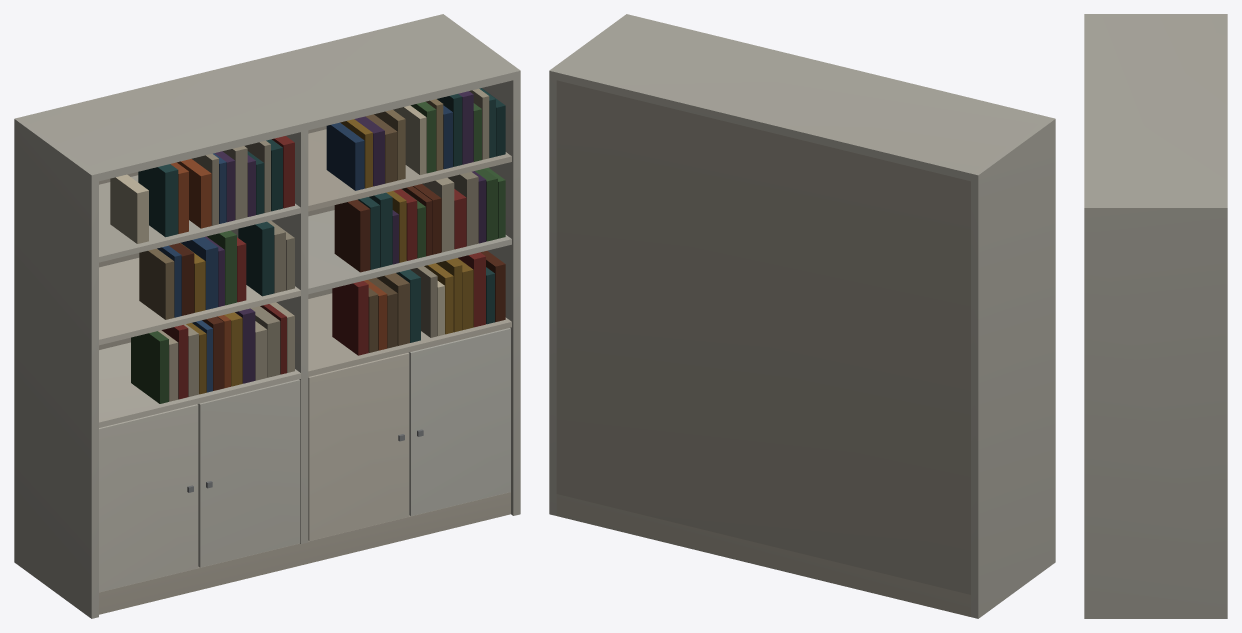
The model's file is bookcase.wide.painted.glb.
3 renders of one model, left to right at view 1: azimuth 30°, elevation 25°; view 2: azimuth 150°, elevation 25°; view 3: azimuth 270°, elevation 25°, orthographic. The views are drawn at different scales.
Parts seen in each view (by area): view 1: bookcase_wide_painted; view 2: bookcase_wide_painted; view 3: bookcase_wide_painted.
Boxes of the visible parts, x1=… form: bookcase_wide_painted: x1=14, y1=14, x2=520, y2=618; bookcase_wide_painted: x1=549, y1=14, x2=1055, y2=618; bookcase_wide_painted: x1=1084, y1=14, x2=1227, y2=618.
Size of what is drawn, in the model's own units: 2.03 by 2 by 0.633.
